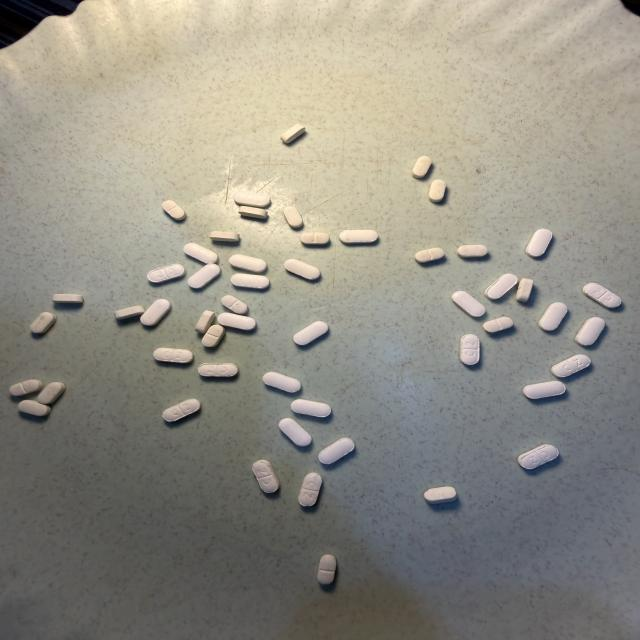pill: (518, 445, 558, 469), (583, 283, 621, 308), (319, 438, 354, 464), (279, 418, 311, 446), (253, 460, 279, 493), (452, 291, 485, 317), (163, 399, 200, 422), (575, 317, 605, 345), (140, 299, 171, 326), (552, 355, 590, 377), (294, 321, 328, 345), (485, 274, 517, 299), (188, 264, 220, 288), (263, 372, 301, 392), (299, 473, 322, 506), (539, 303, 567, 330), (523, 381, 565, 399), (285, 259, 320, 280), (526, 229, 552, 257), (147, 264, 185, 283), (291, 399, 331, 417), (184, 243, 218, 263), (229, 254, 266, 272), (218, 313, 255, 330), (233, 191, 270, 208), (37, 382, 65, 404), (154, 348, 193, 363), (231, 274, 269, 289), (460, 335, 479, 365), (424, 487, 457, 504), (198, 363, 238, 377), (31, 312, 56, 334), (10, 379, 42, 396), (318, 555, 336, 584), (18, 400, 50, 416), (339, 230, 378, 243), (202, 325, 225, 347), (221, 295, 247, 314), (195, 310, 215, 334), (281, 124, 305, 143), (162, 201, 186, 220), (483, 317, 513, 332), (283, 206, 303, 228), (415, 248, 444, 263), (412, 156, 431, 178), (516, 278, 533, 302), (115, 306, 144, 320), (429, 180, 446, 202), (457, 245, 488, 257), (239, 206, 267, 219), (301, 232, 329, 244), (210, 231, 239, 242), (53, 294, 83, 303)
